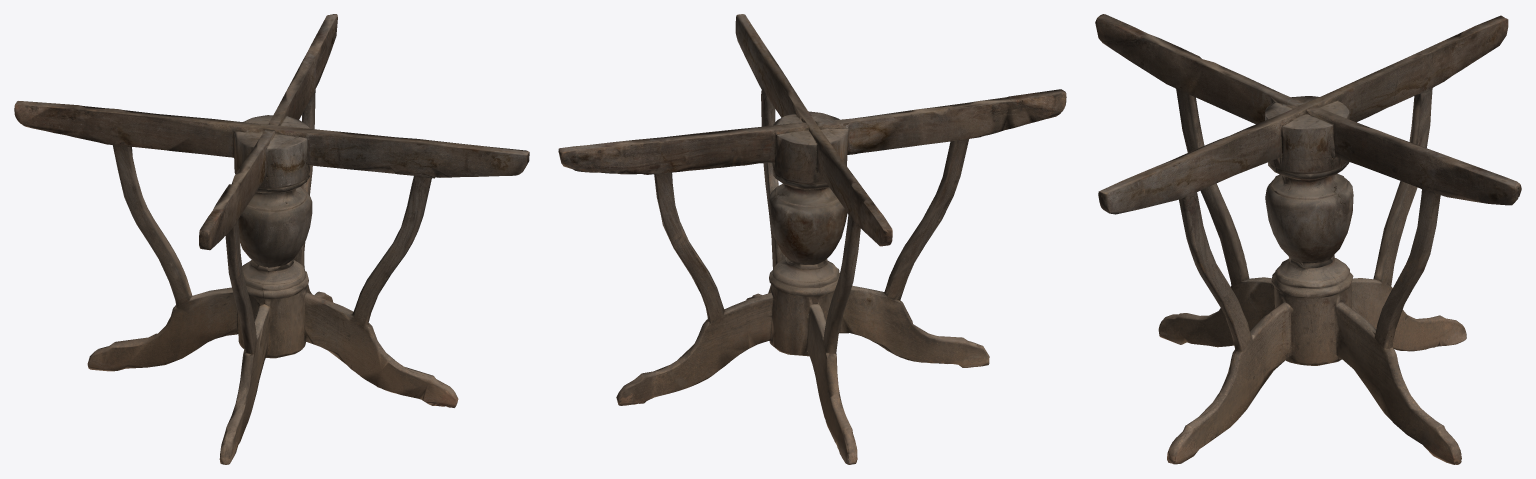
File: historic_miscellaneous_stand_wood_old_05_xeokah0_mid_50_69zs.glb
The picture shows the model from 3 angles, left to right: view 1: azimuth 30°, elevation 25°; view 2: azimuth 150°, elevation 25°; view 3: azimuth 270°, elevation 25°; orthographic projection. The views are drawn at different scales.
Parts seen in each view (by area): view 1: xeokah0_LOD2_TIER2; view 2: xeokah0_LOD2_TIER2; view 3: xeokah0_LOD2_TIER2.
Part boxes in pixels (box(x1,y1,x2,y2)): xeokah0_LOD2_TIER2: box(14, 14, 529, 464); xeokah0_LOD2_TIER2: box(558, 14, 1066, 464); xeokah0_LOD2_TIER2: box(1095, 14, 1521, 464).
Bounding box in the file's own units: 0.8929 × 0.6858 × 0.8876.
Materials: 1 (1 with a texture image).
